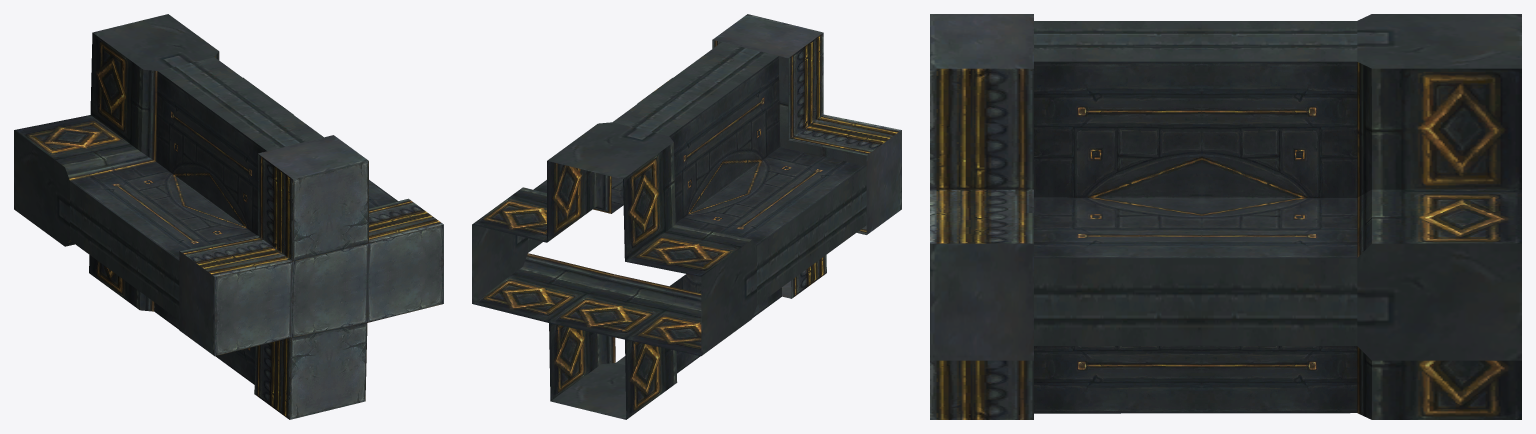
File: tanxian_fuben_257_qiang_03a.obj
The picture shows the model from 3 angles, left to right: view 1: azimuth 30°, elevation 25°; view 2: azimuth 150°, elevation 25°; view 3: azimuth 270°, elevation 25°; orthographic projection. The views are drawn at different scales.
Parts seen in each view (by area): view 1: tanxian_fuben_257_qiang_03a; view 2: tanxian_fuben_257_qiang_03a; view 3: tanxian_fuben_257_qiang_03a.
Boxes of the visible parts, box(x1,y1,x2,y2) form: tanxian_fuben_257_qiang_03a: box(14, 14, 443, 419); tanxian_fuben_257_qiang_03a: box(472, 14, 901, 419); tanxian_fuben_257_qiang_03a: box(930, 14, 1521, 419).
Bounding box in the file's own units: 192 × 192 × 291.
Materials: 2 (2 with a texture image).
